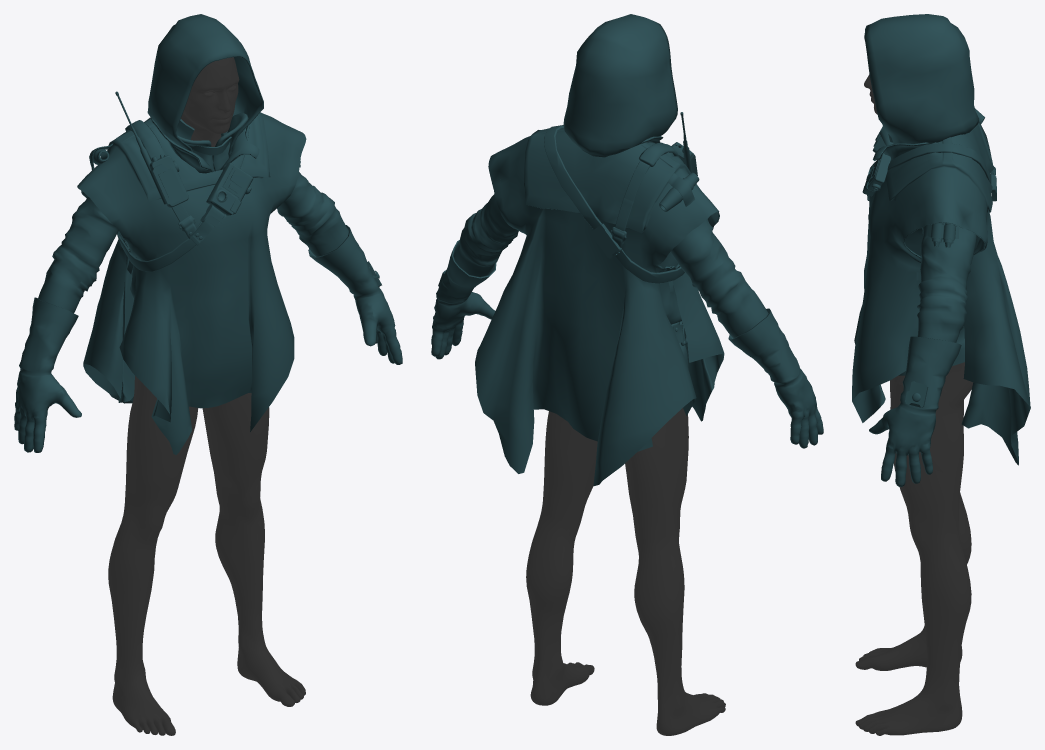
File: Jedi.glb
The picture shows the model from 3 angles, left to right: view 1: azimuth 30°, elevation 25°; view 2: azimuth 150°, elevation 25°; view 3: azimuth 270°, elevation 25°; orthographic projection.
Visible parts, largest first — view 1: Poncho, Body, Jacket; view 2: Poncho, Body, Jacket; view 3: Poncho, Body, Jacket.
Boxes of the visible parts, left/top/right/bottom form: Poncho: left=77, top=14, right=306, bottom=454; Body: left=108, top=57, right=305, bottom=735; Jacket: left=14, top=119, right=402, bottom=452; Poncho: left=475, top=14, right=724, bottom=486; Body: left=526, top=408, right=725, bottom=735; Jacket: left=431, top=194, right=823, bottom=448; Poncho: left=852, top=14, right=1030, bottom=465; Body: left=855, top=74, right=973, bottom=735; Jacket: left=869, top=178, right=979, bottom=486.
Size of the model in its own units: 1.05 by 1.83 by 0.4357.
